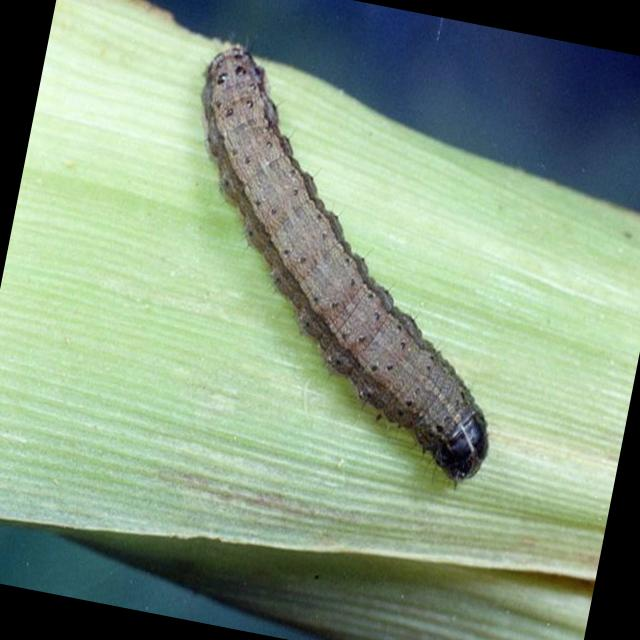pest: (143, 27, 540, 488)
